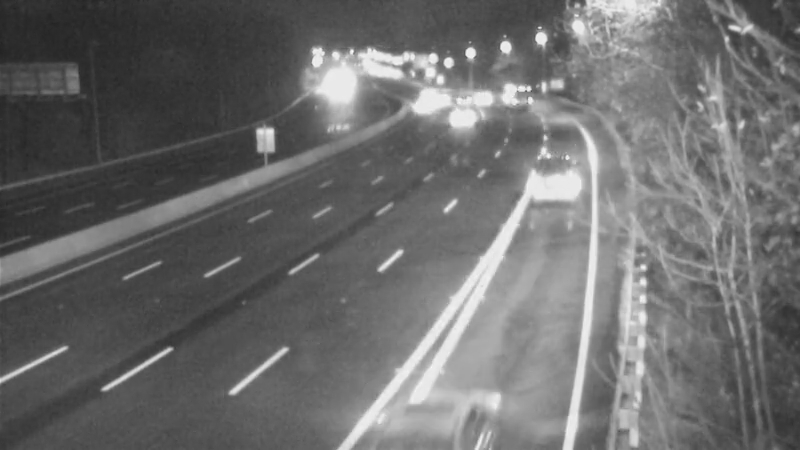vehicle: (379, 357, 489, 450), (516, 141, 596, 221), (501, 68, 551, 118), (466, 75, 516, 125), (439, 71, 489, 121), (396, 78, 446, 128), (426, 87, 476, 137)
